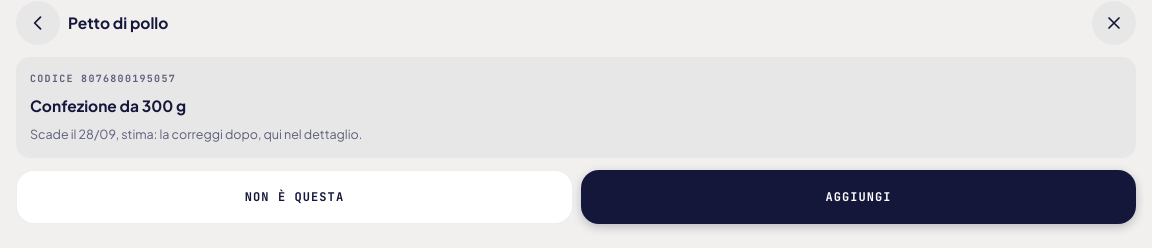
Test: ScansioneConfezione › NON È QUESTA torna alla lettura
This screenshot has width=1152, height=248.
Expected: the text "Confezione da 300 g" is shown, [30,96,186,115]
Click the button "NON È QUESTA": coordinates (294, 197) [16,170,573,224]
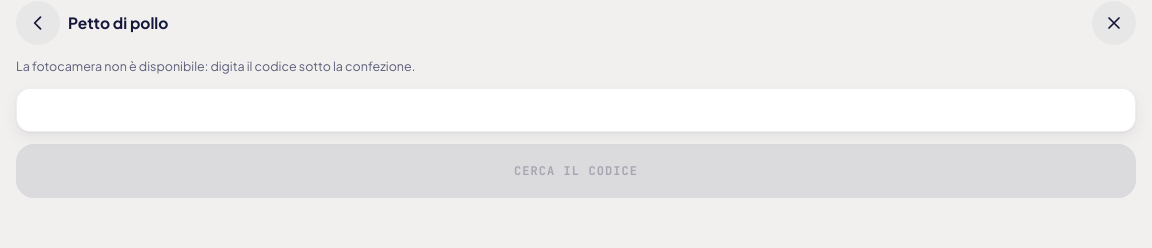
Now the field named "Codice a barre" is shown, box [16,88,1136,132]
